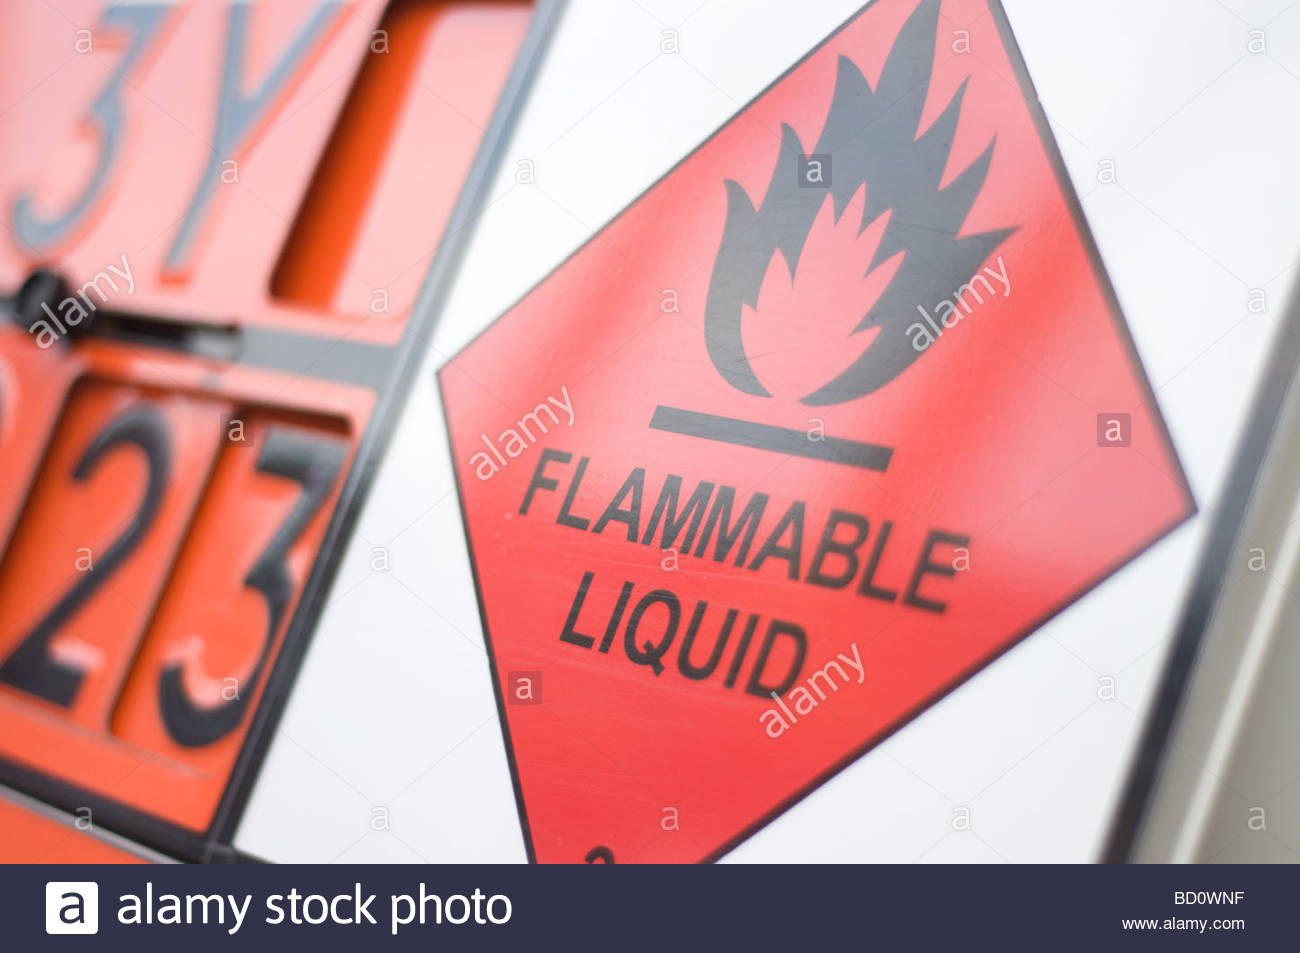FlammableLiquid: (496, 32, 1133, 810)
